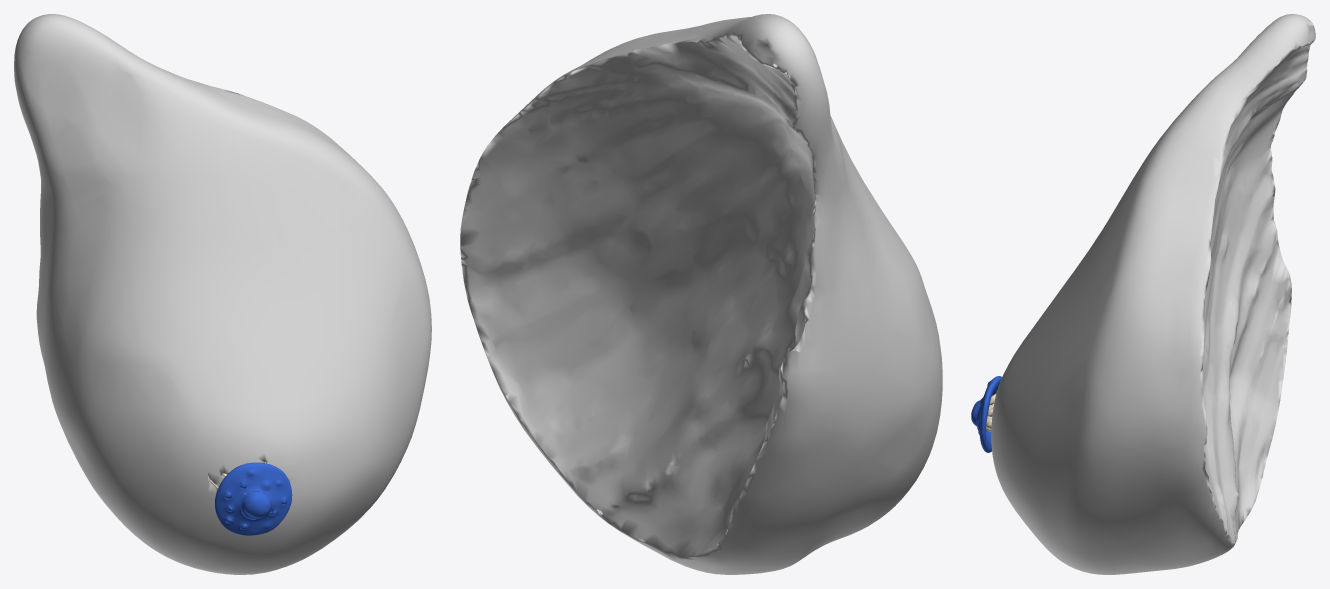
File: 3d-vh-f-mammary-gland-r-20.fbx
3 renders of one model, left to right at view 1: azimuth 30°, elevation 25°; view 2: azimuth 150°, elevation 25°; view 3: azimuth 270°, elevation 25°, orthographic. The views are drawn at different scales.
Visible parts, largest first — view 1: VH_F_fat_R, VH_F_areola_R, VH_F_nipple_R; view 2: VH_F_fat_R; view 3: VH_F_fat_R, VH_F_areola_R.
Boxes of the visible parts, box(x1,y1,x2,y2) form: VH_F_fat_R: box(14, 14, 431, 574); VH_F_areola_R: box(215, 462, 292, 535); VH_F_nipple_R: box(241, 491, 271, 519); VH_F_fat_R: box(460, 14, 942, 574); VH_F_fat_R: box(991, 14, 1315, 574); VH_F_areola_R: box(976, 376, 1001, 452).
Bounding box in the file's own units: 12.83 × 18 × 11.32.
